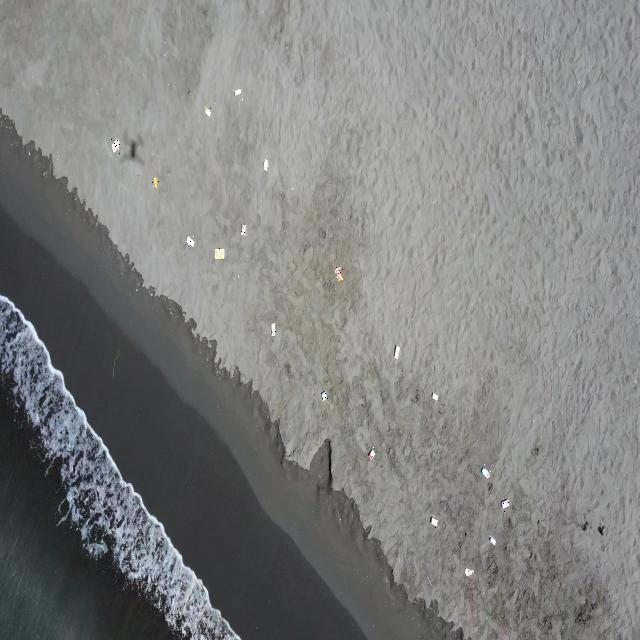Garbage: (333, 267, 343, 280), (213, 247, 223, 259), (480, 464, 489, 477), (367, 447, 375, 460), (111, 139, 118, 152), (428, 516, 437, 526), (393, 344, 399, 359), (596, 524, 604, 535), (186, 236, 193, 247), (204, 105, 211, 116), (500, 499, 508, 508), (240, 223, 246, 235), (464, 567, 473, 575), (152, 176, 158, 187), (320, 391, 327, 400), (488, 535, 495, 544), (233, 88, 240, 95), (271, 323, 275, 335), (263, 159, 267, 171), (432, 392, 437, 400)
